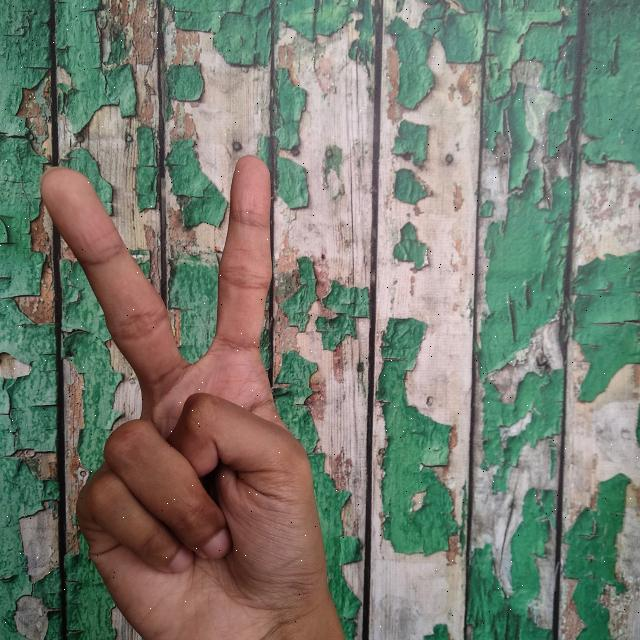V: (31, 146, 353, 640)
